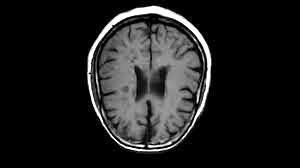Normal_Brain: (3, 3, 300, 168)
